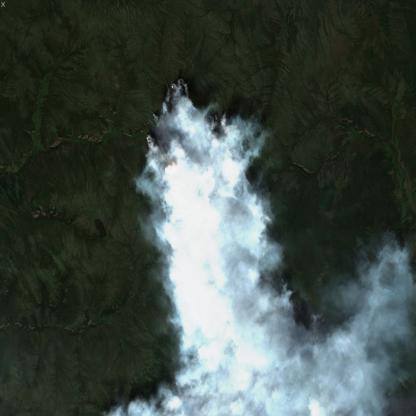fire: (137, 70, 280, 382)
